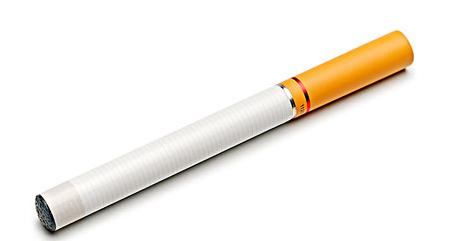smoke: (33, 29, 415, 234)
